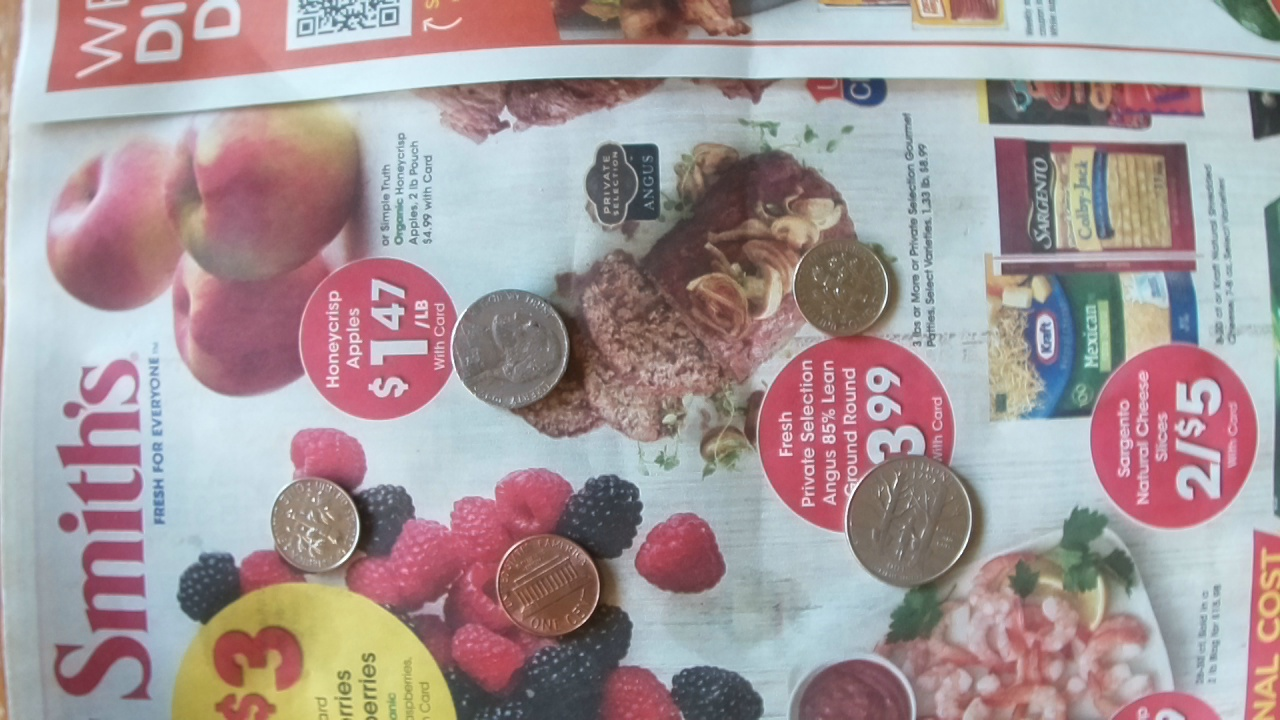dime: (793, 236, 890, 334), (270, 476, 360, 573)
nickel: (449, 288, 570, 411)
penny: (495, 531, 600, 636)
quarter: (844, 454, 971, 588)
